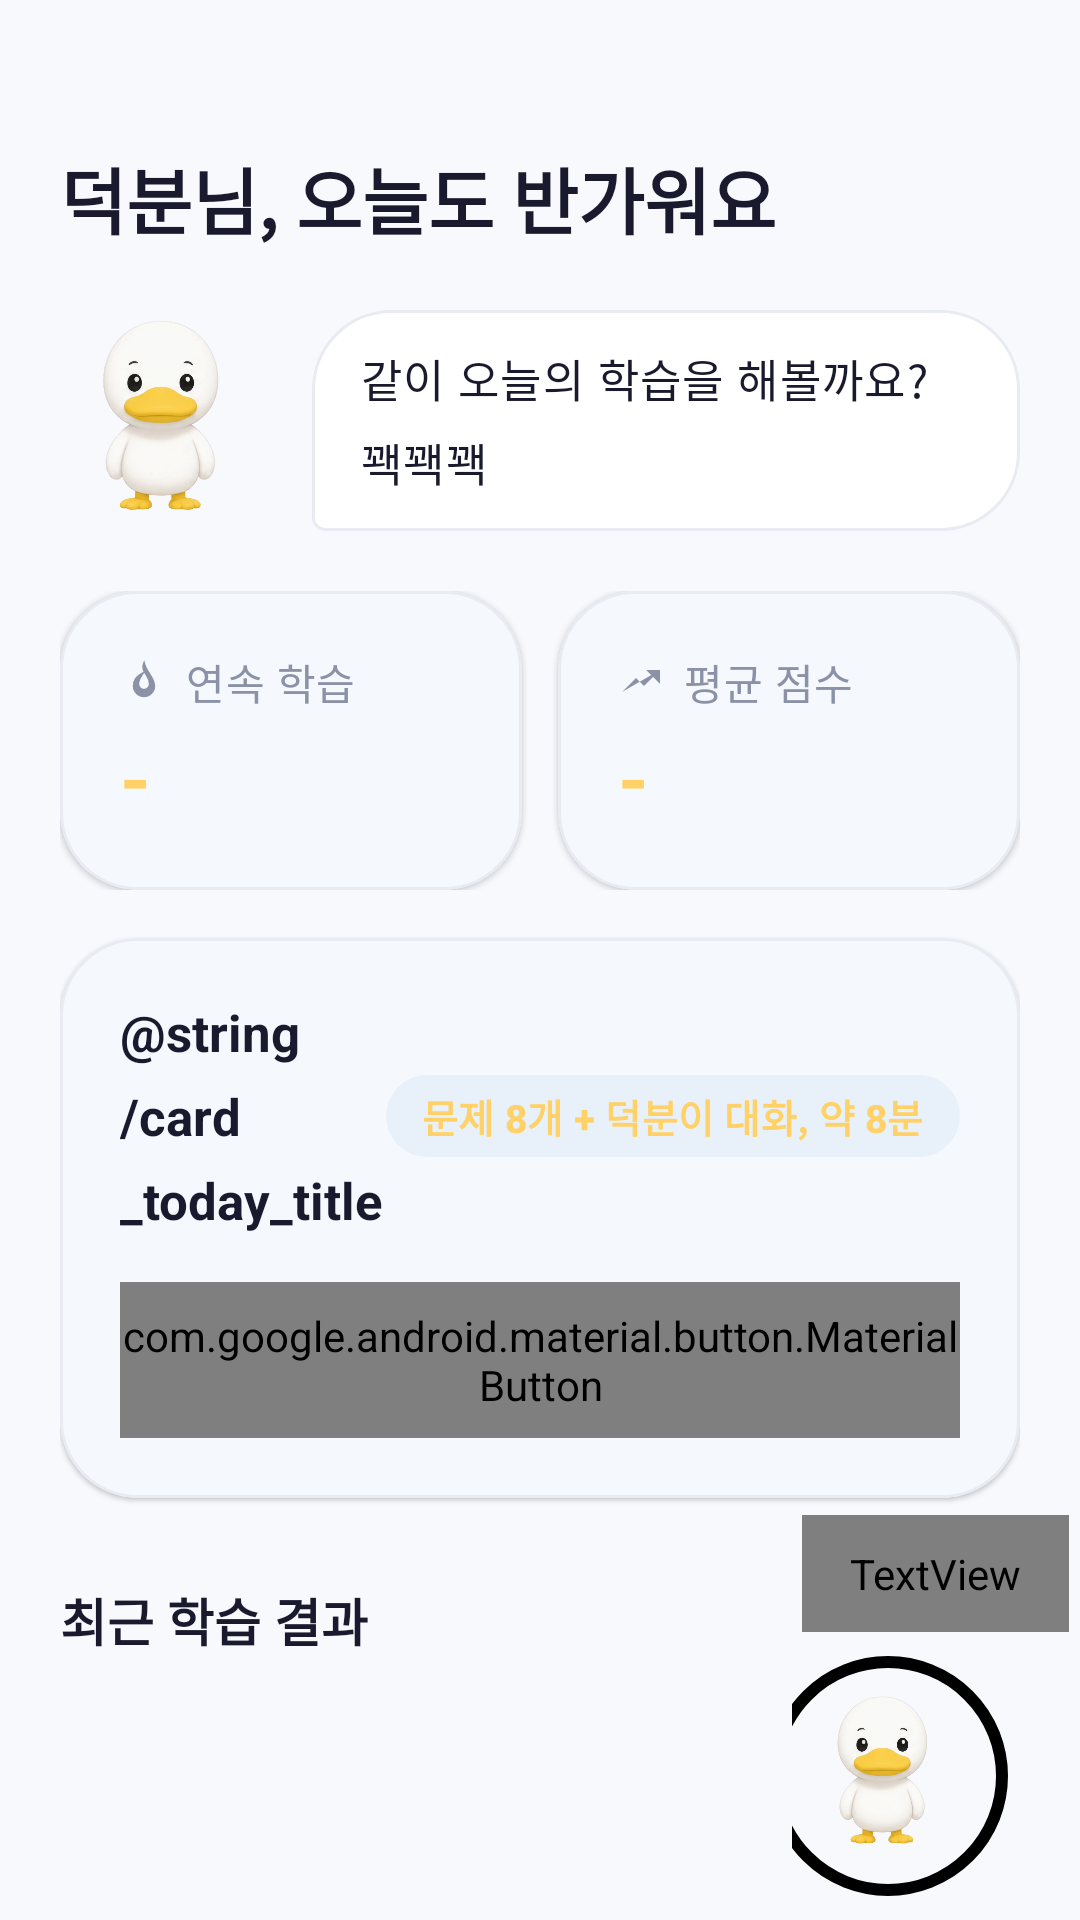

Named icons in this screenshot (1080w x 1920h) and their centers, point (x, y):
덕분이와 대화 시작하기: point (882, 1771)
